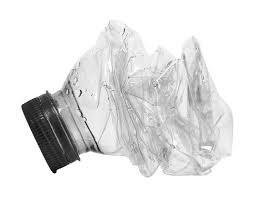Plastic: (19, 15, 244, 188)
